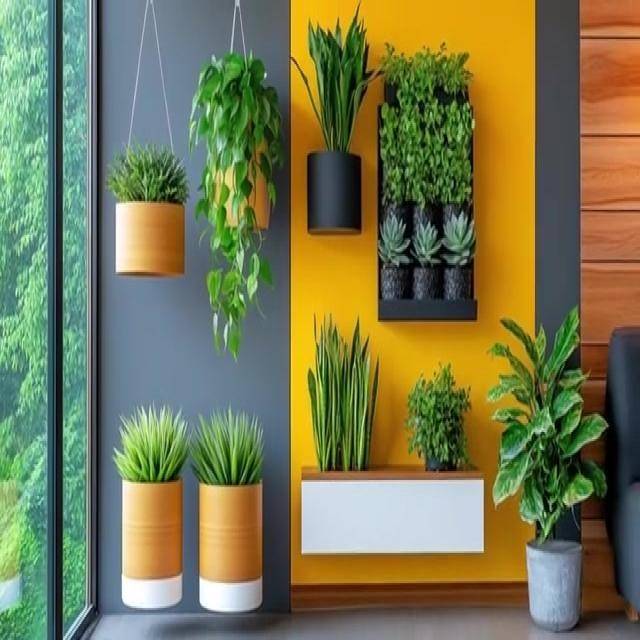obstacle: (602, 323, 639, 633)
